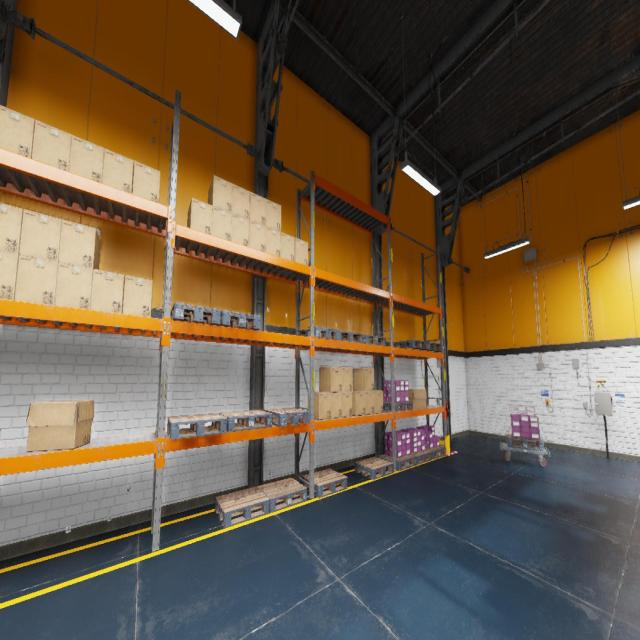box: (25, 400, 94, 452), (19, 209, 62, 262), (14, 255, 58, 305), (58, 219, 101, 269), (32, 120, 72, 171), (0, 105, 35, 158), (55, 262, 93, 310), (69, 134, 104, 182), (90, 268, 124, 314), (102, 148, 134, 193), (123, 275, 152, 317), (132, 160, 160, 202), (0, 203, 23, 254), (0, 251, 19, 300), (187, 198, 212, 235), (208, 175, 232, 213), (212, 206, 231, 241), (232, 184, 250, 219), (249, 191, 266, 226), (308, 392, 330, 419), (248, 220, 266, 252), (231, 214, 249, 246), (319, 367, 342, 392), (266, 199, 281, 232), (353, 368, 374, 391), (265, 226, 281, 256), (280, 232, 294, 261), (295, 238, 308, 266), (407, 389, 426, 408), (359, 391, 374, 414), (352, 390, 365, 416), (331, 392, 342, 418), (342, 367, 352, 392), (342, 392, 352, 417), (374, 390, 383, 413)
pallets: (215, 487, 270, 528), (257, 478, 307, 512), (167, 414, 227, 439), (302, 469, 348, 498), (170, 302, 221, 326), (219, 410, 272, 431), (354, 457, 394, 479), (264, 408, 310, 427), (219, 310, 260, 330), (506, 434, 544, 451), (381, 454, 416, 470), (300, 327, 340, 340), (332, 331, 363, 343), (395, 340, 428, 350), (410, 450, 432, 464), (356, 335, 386, 345), (425, 446, 446, 459), (383, 402, 413, 411), (420, 342, 441, 351)
